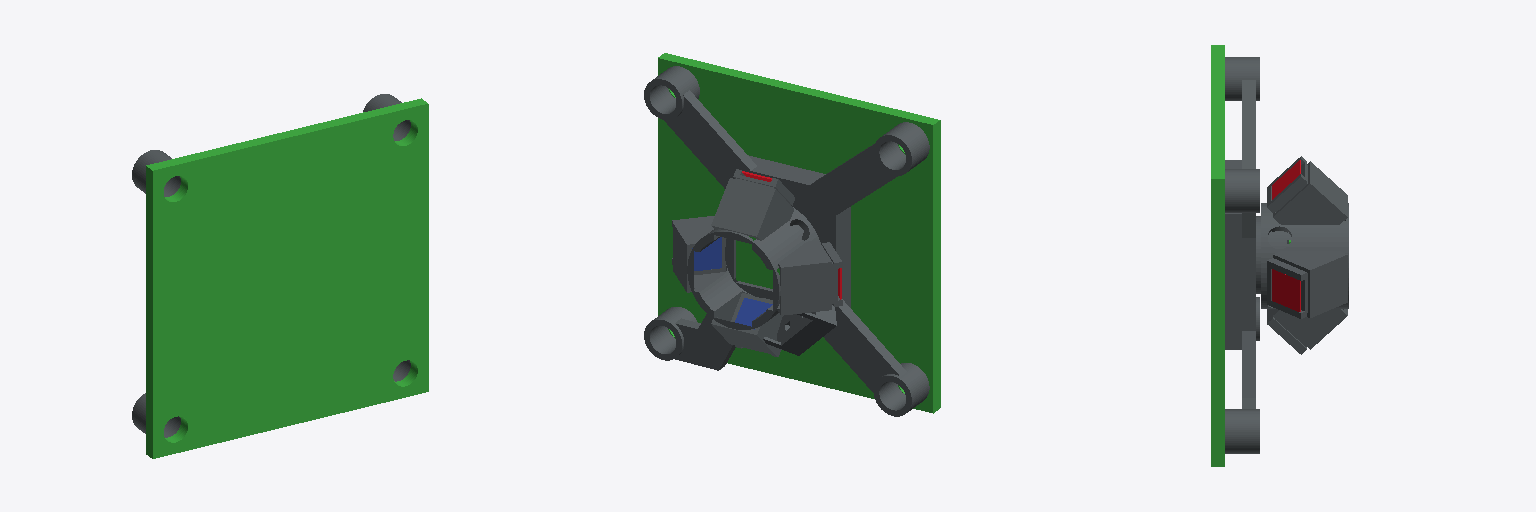
Rendered from CM2_V2_assembly_short_WD.obj.
3 renders of one model, left to right at view 1: azimuth 30°, elevation 25°; view 2: azimuth 150°, elevation 25°; view 3: azimuth 270°, elevation 25°, orthographic.
Parts seen in each view (by area): view 1: obj_0; view 2: obj_0; view 3: obj_0.
Boxes of the visible parts, x1,y1,x2,y2 form: obj_0: [132, 94, 428, 458]; obj_0: [644, 53, 940, 416]; obj_0: [1211, 45, 1348, 466].
Size of the model in its own units: 36 by 36 by 15.7.